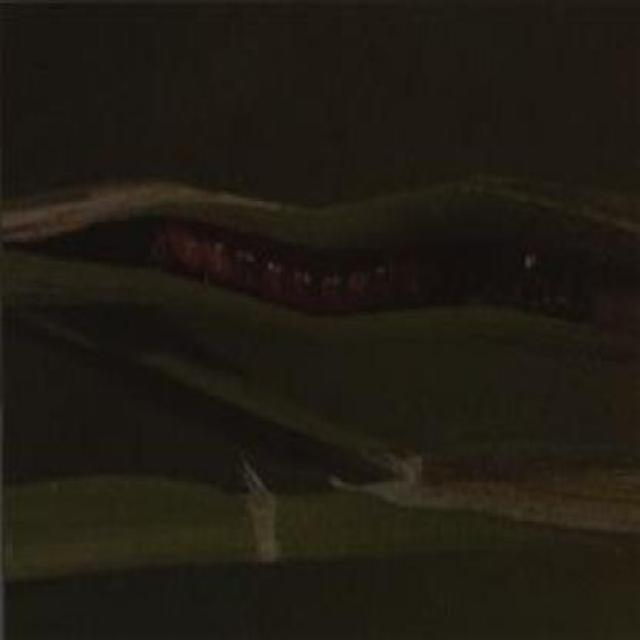leaf-folder: (139, 144, 496, 384)
